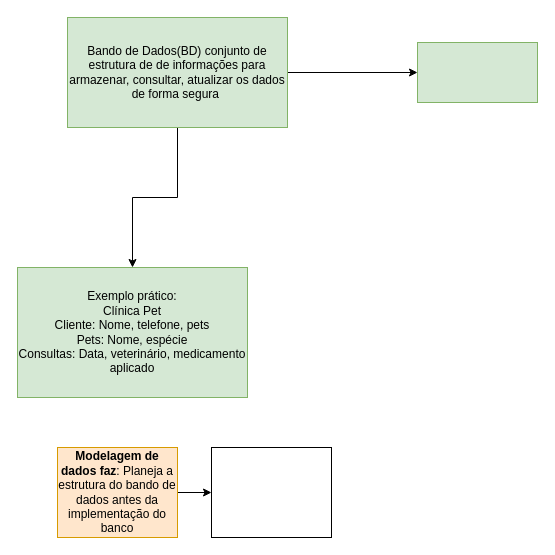
The diagram is 555 pixels wide and 555 high, and some of its shapes have lost their labels. The centre of each missing label's shape, as x and y in pixels:
Benefícios da modelagem de dados: Evita redundâcia, expansão: pixel 271 492
Para que serve: pixel 477 72
